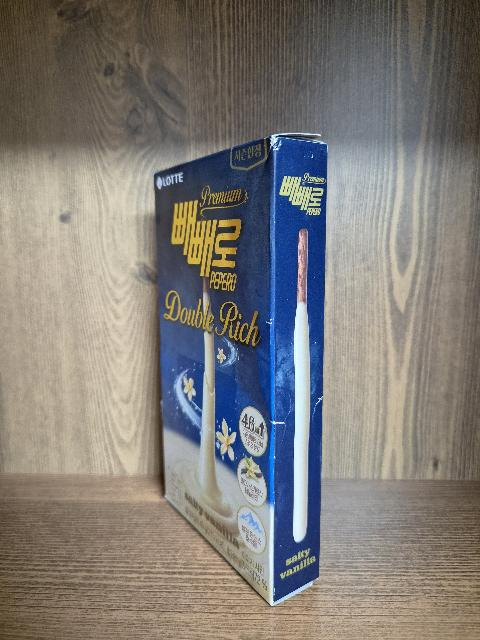pepero: (153, 133, 328, 606)
